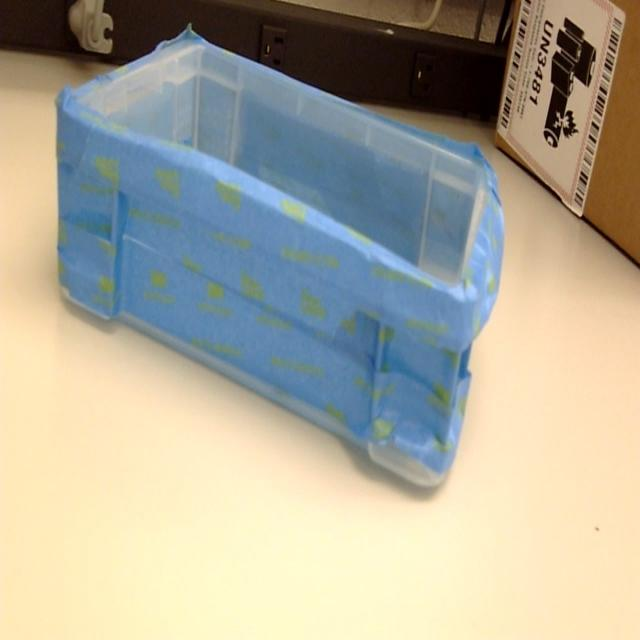bucket: (54, 28, 506, 495)
